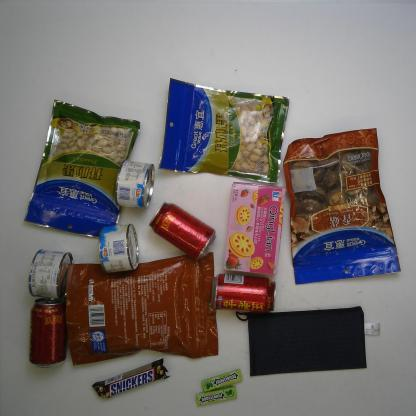Canned Food: (28, 249, 75, 300), (98, 223, 140, 274), (115, 160, 155, 210)
Chocolate: (91, 358, 171, 398)
Dessert: (221, 181, 287, 276)
Dried Food: (282, 128, 401, 284), (66, 252, 219, 366)
Dried Fruit: (24, 100, 141, 240), (158, 78, 290, 184)
Drink: (149, 200, 217, 260), (29, 296, 69, 368), (211, 273, 277, 312)
Gum: (201, 369, 244, 392), (196, 384, 238, 406)
Stationery: (235, 306, 381, 376)
